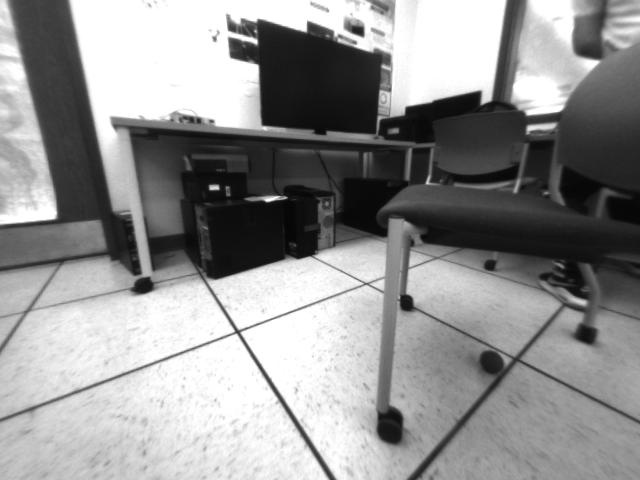dogtoy: (473, 344, 514, 383)
